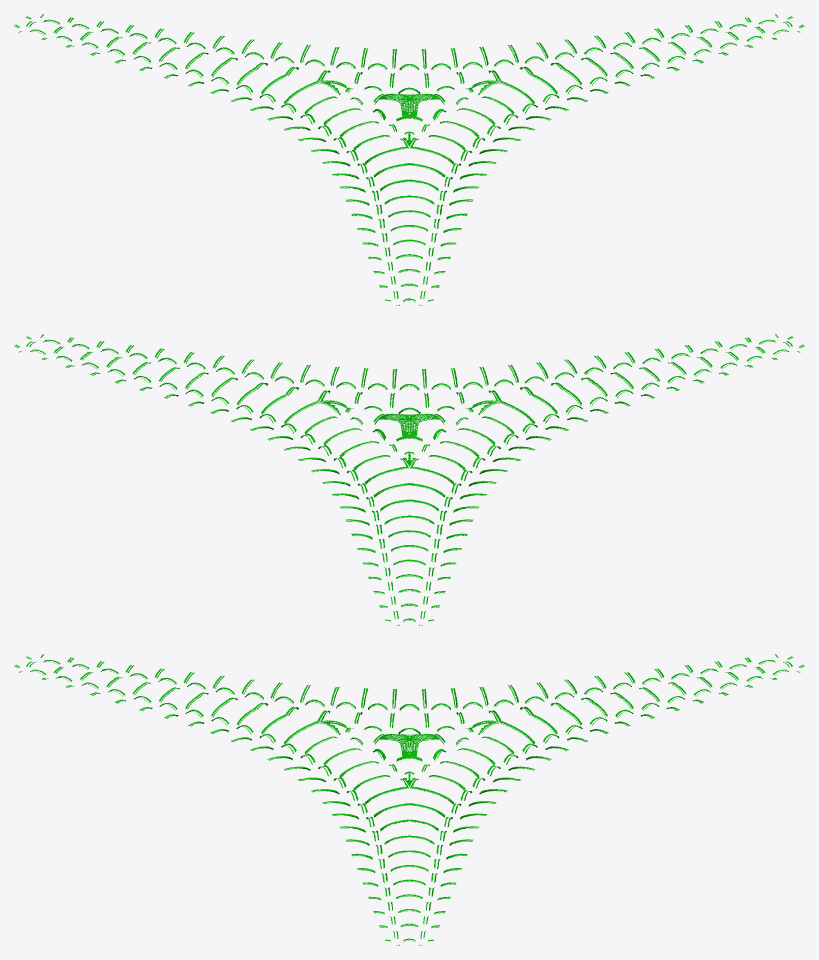
Rendered from kia_2.glb.
The picture shows the model from 3 angles, top to bottom: view 1: azimuth 30°, elevation 25°; view 2: azimuth 150°, elevation 25°; view 3: azimuth 270°, elevation 25°; orthographic projection.
Bounding box in the file's own units: 972374 × 28904 × 1116349.
